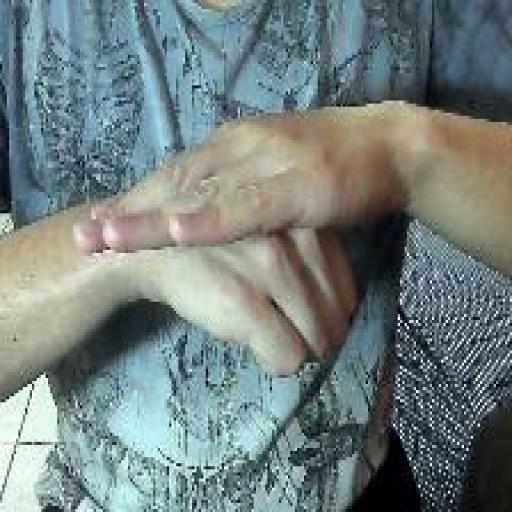Inu -dog-: (70, 112, 362, 382)
